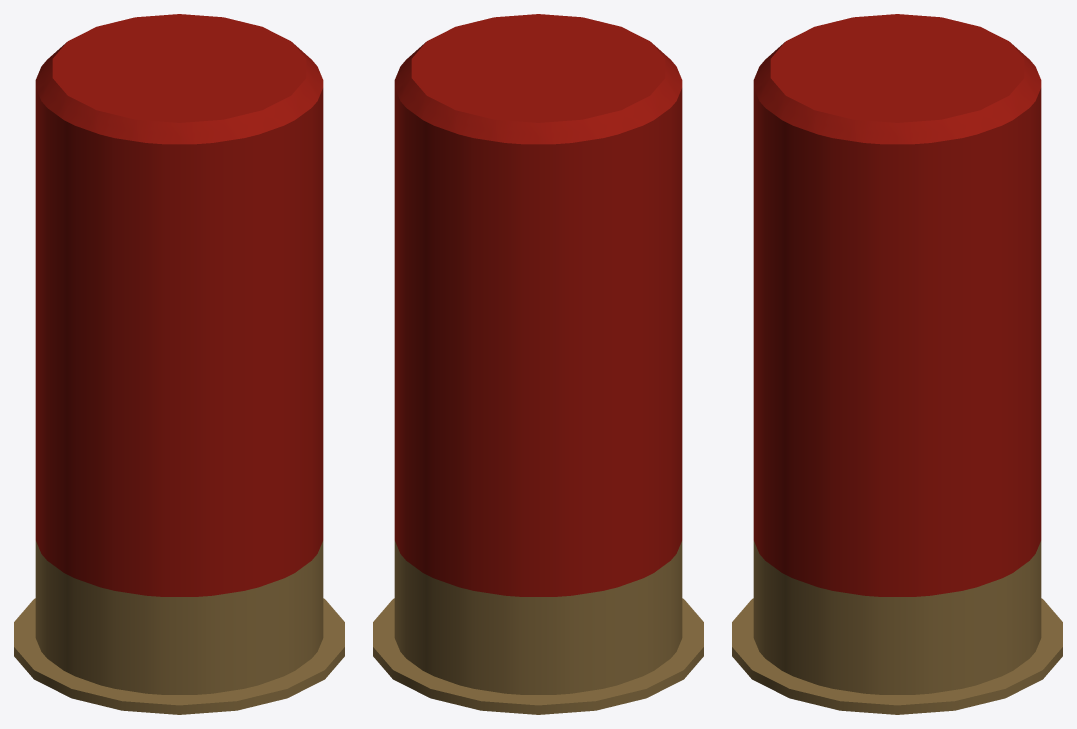
File: ShotgunAmmo.fbx
3 views of the same model, side by side, from view 1: azimuth 30°, elevation 25°; view 2: azimuth 150°, elevation 25°; view 3: azimuth 270°, elevation 25° (orthographic).
Parts seen in each view (by area): view 1: ShotgunAmmo; view 2: ShotgunAmmo; view 3: ShotgunAmmo.
Boxes of the visible parts, bbox=[...] form: ShotgunAmmo: bbox=[14, 14, 344, 714]; ShotgunAmmo: bbox=[373, 14, 703, 714]; ShotgunAmmo: bbox=[732, 14, 1062, 714].
Bounding box in the file's own units: 3.99 × 7.54 × 3.93.
